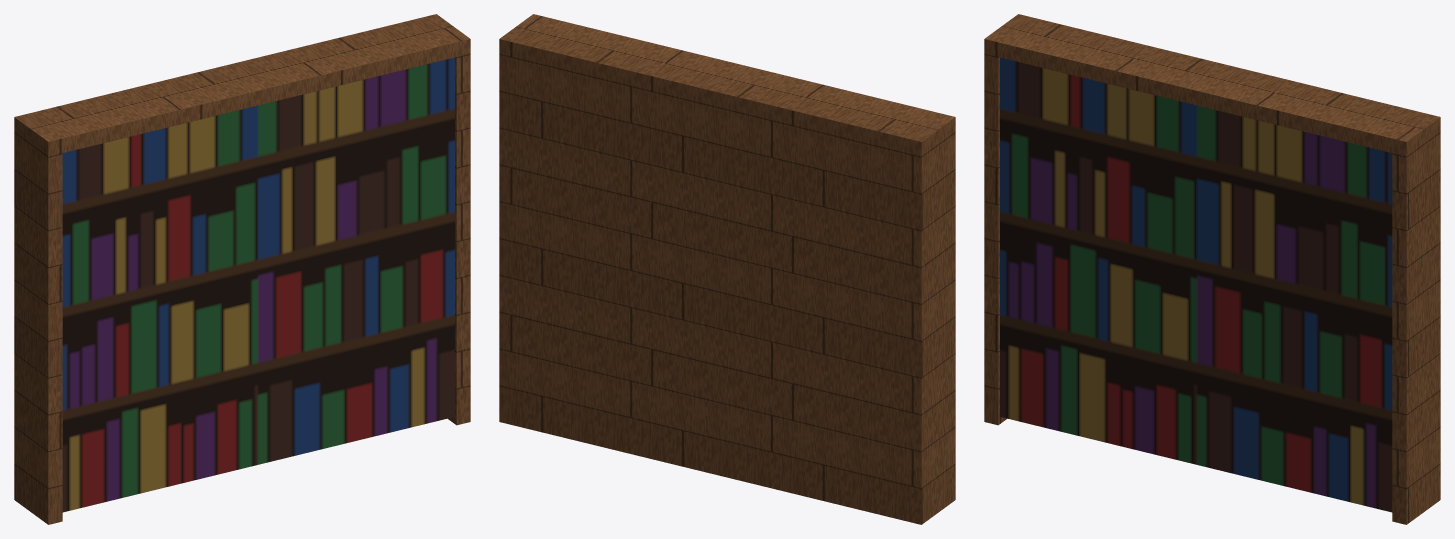
Rendered from bookcase.obj.
The picture shows the model from 3 angles, left to right: view 1: azimuth 30°, elevation 25°; view 2: azimuth 150°, elevation 25°; view 3: azimuth 330°, elevation 25°; orthographic projection.
Visible parts, largest first — view 1: books, wood; view 2: wood; view 3: books, wood.
Part boxes in pixels (x1,y1,x2,y2): books: (62, 57, 454, 512); wood: (14, 14, 470, 524); wood: (499, 14, 955, 524); books: (1000, 57, 1392, 512); wood: (984, 14, 1440, 524).
Size of the model in its own units: 3 by 2.6 by 0.42.
Materials: 2 (2 with a texture image).
